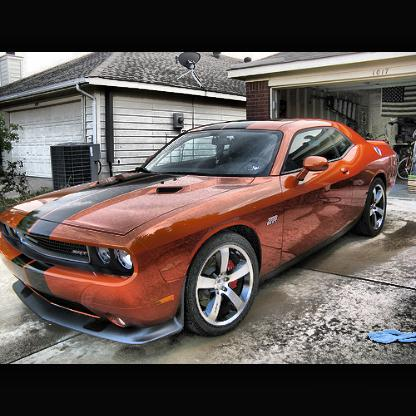Dodge Challenger SRT8 2011: (3, 119, 399, 351)
